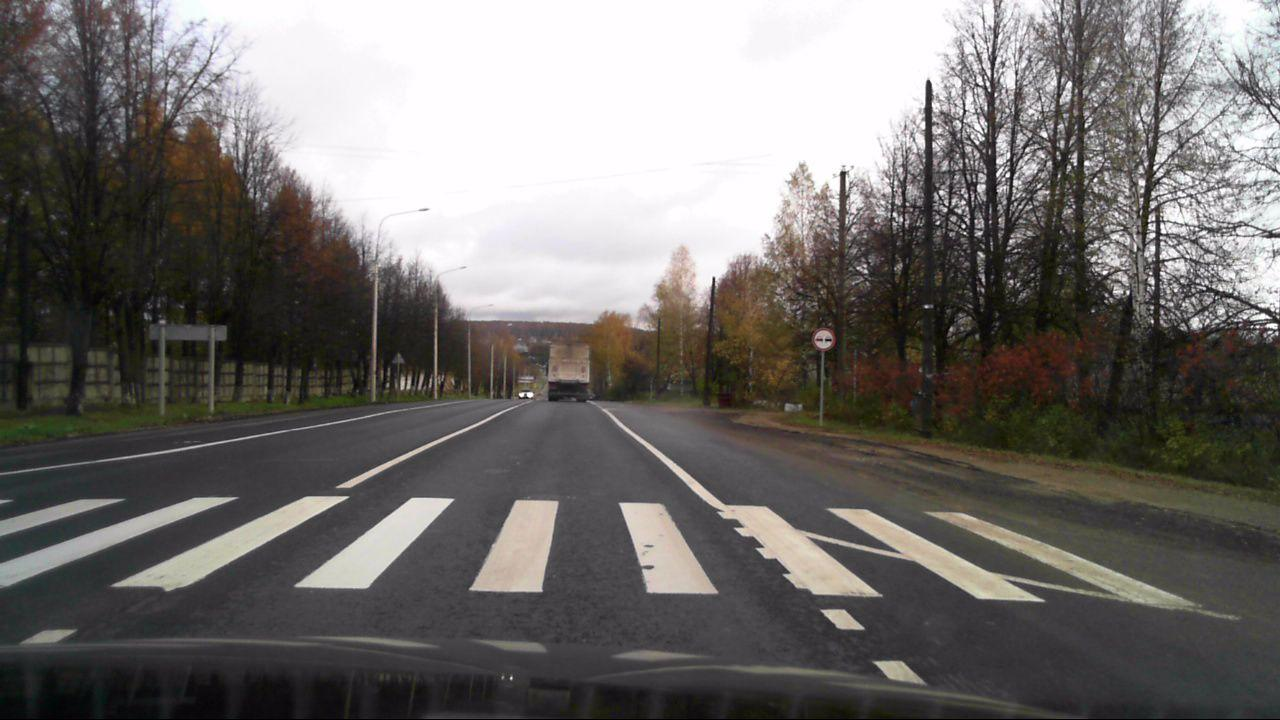3_20: (813, 329, 833, 351)
